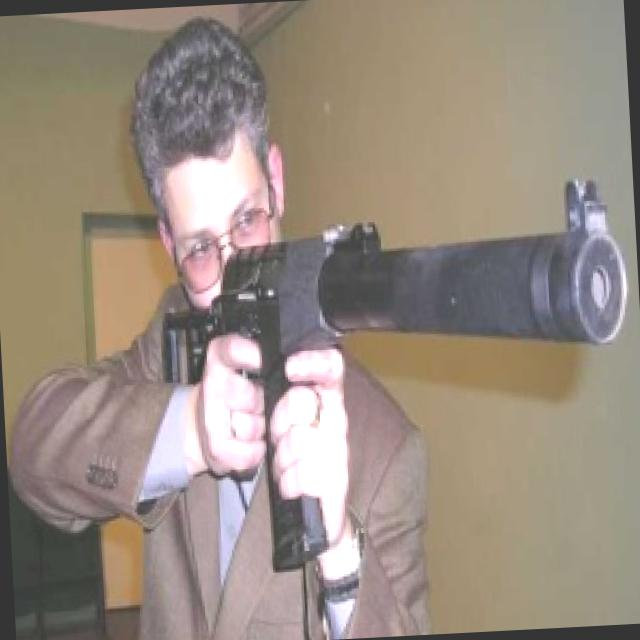long weapon: (192, 156, 620, 449)
